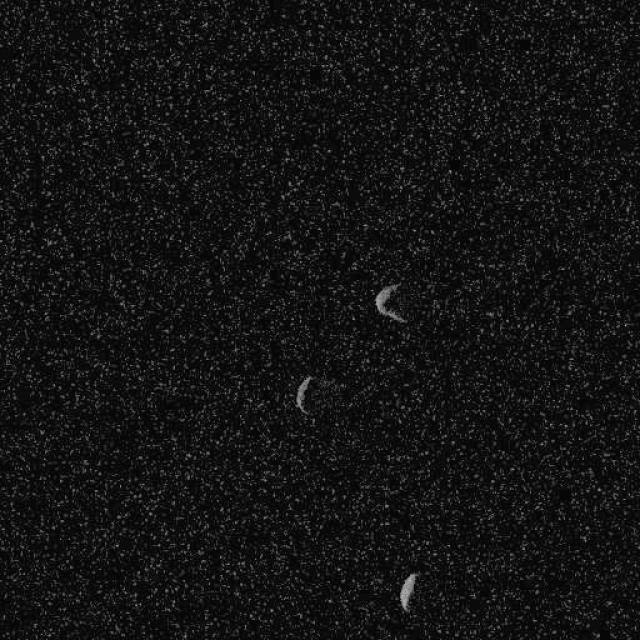D2: (373, 281, 408, 324), (398, 572, 418, 612), (294, 374, 312, 416)
